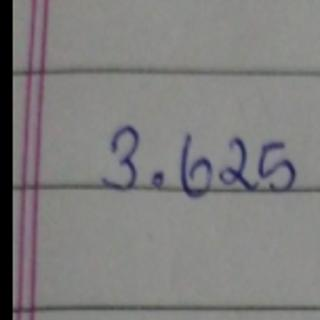.: (150, 168, 168, 190)
2: (221, 135, 255, 191)
3: (103, 123, 142, 188)
5: (258, 141, 297, 193)
6: (180, 134, 213, 199)
